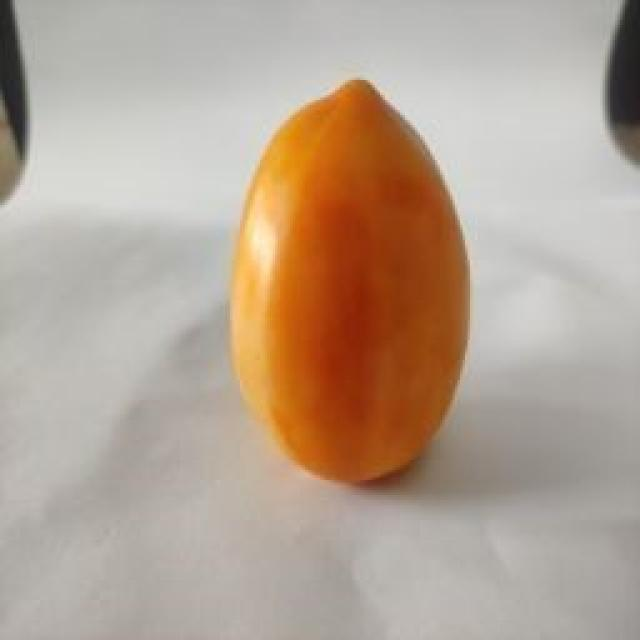unripe: (245, 128, 423, 428)
